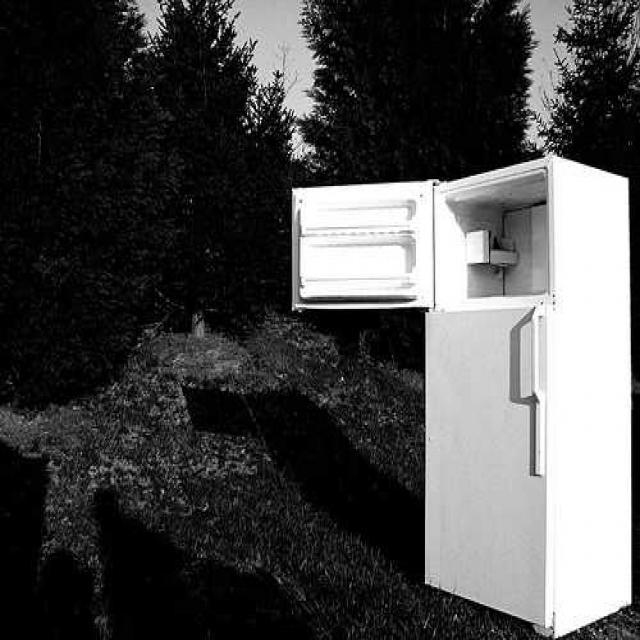refrigerator: (426, 174, 631, 600)
